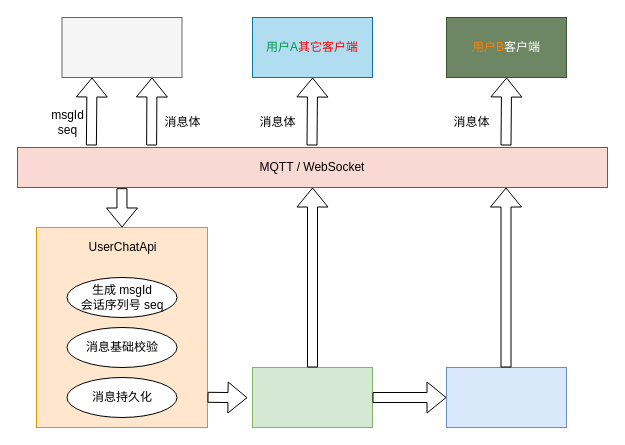
Image size: 625x445. Some labels were removed from this diagram. The shapes that lost their labels are listed below. From the top down, each one's box as (x1, y1, x2, y2) in pixels, then its label:
(61, 16, 182, 78): 用户A 客户端
(252, 366, 372, 428): 数据同步
(446, 366, 566, 428): 数据发送
